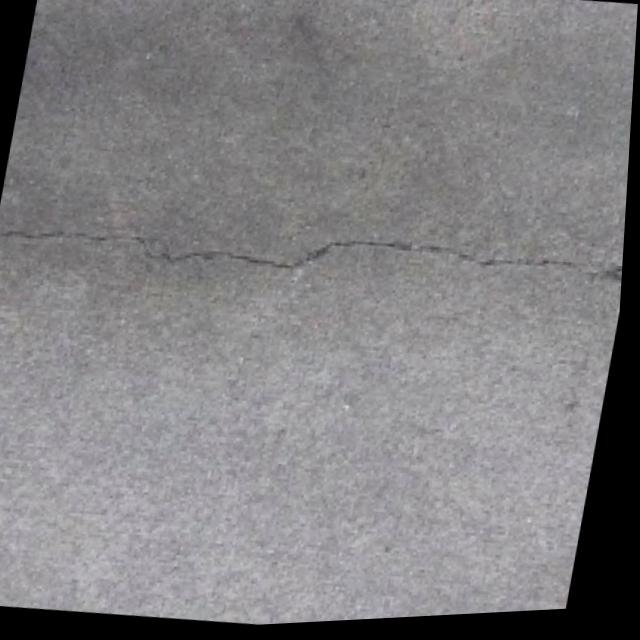Crack: (0, 178, 630, 349)
